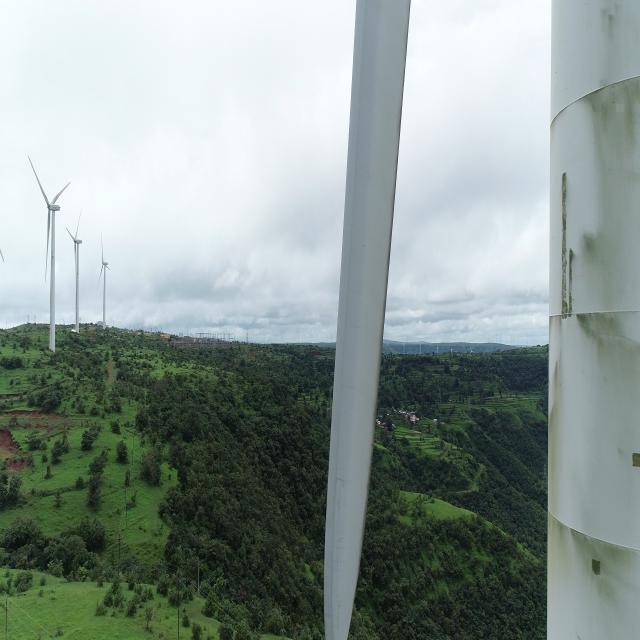Dirt: (546, 1, 640, 640)
